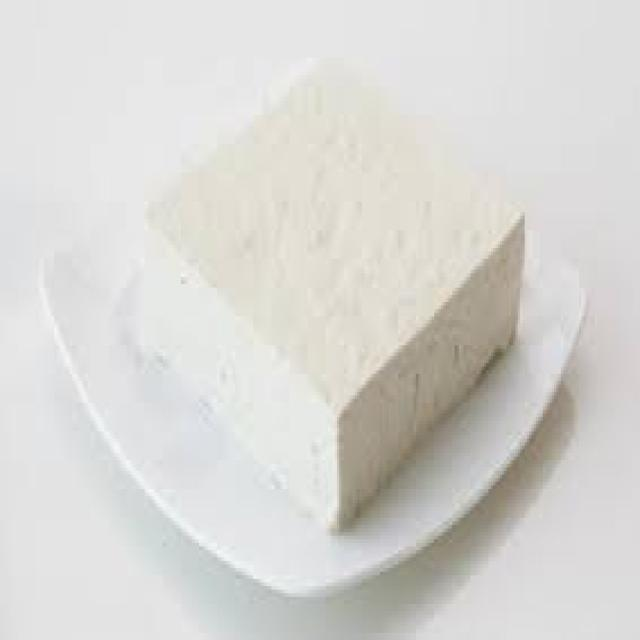tofu: (145, 58, 528, 537)
